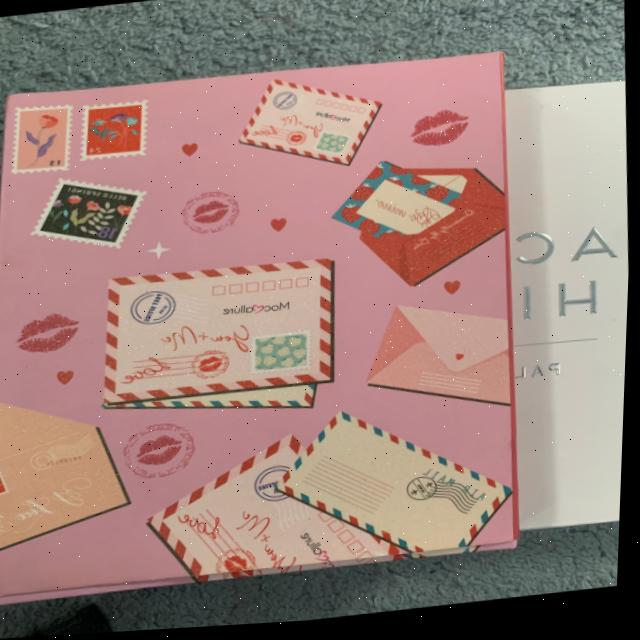eye shade: (0, 52, 541, 617)
